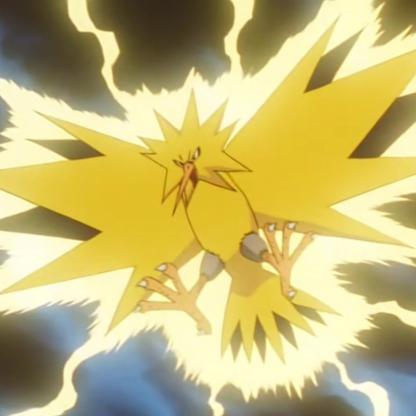Zapdos: (1, 9, 416, 372)
